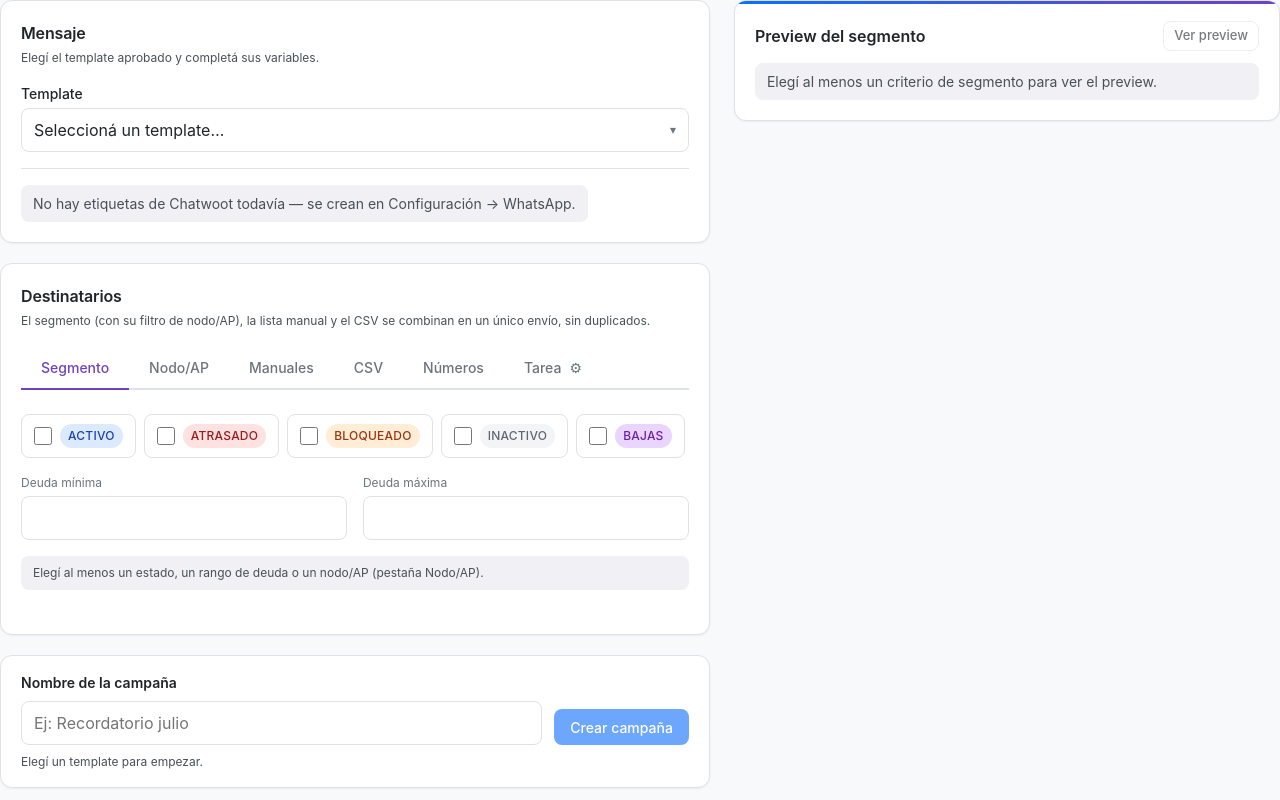
Test: CC-2: elegir un template › muestra sus variables en VariablesMapForm
Click the dropdown labelled "Seleccioná un template… ▾". click: (129, 130)
box: [21,108,689,152]
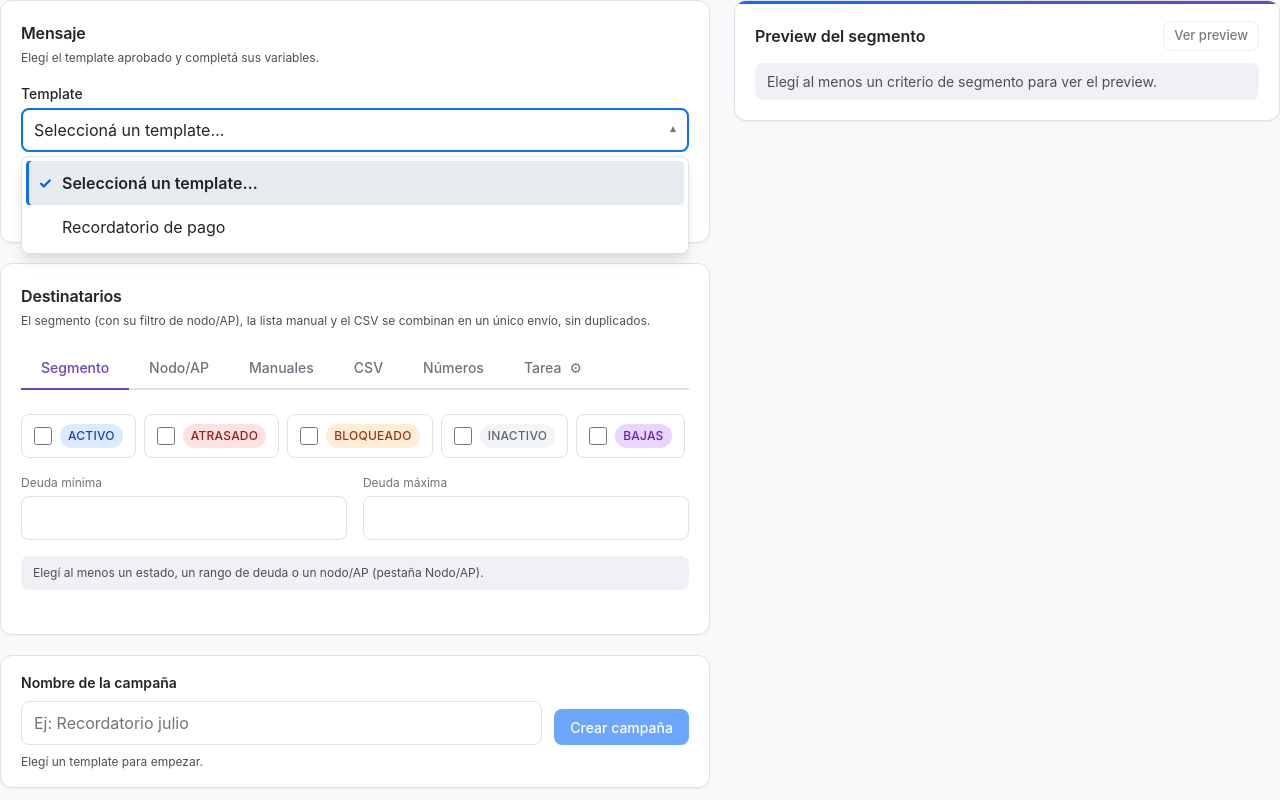
Click the option "Recordatorio de pago". click: (144, 227)
box: [62,217,226,237]
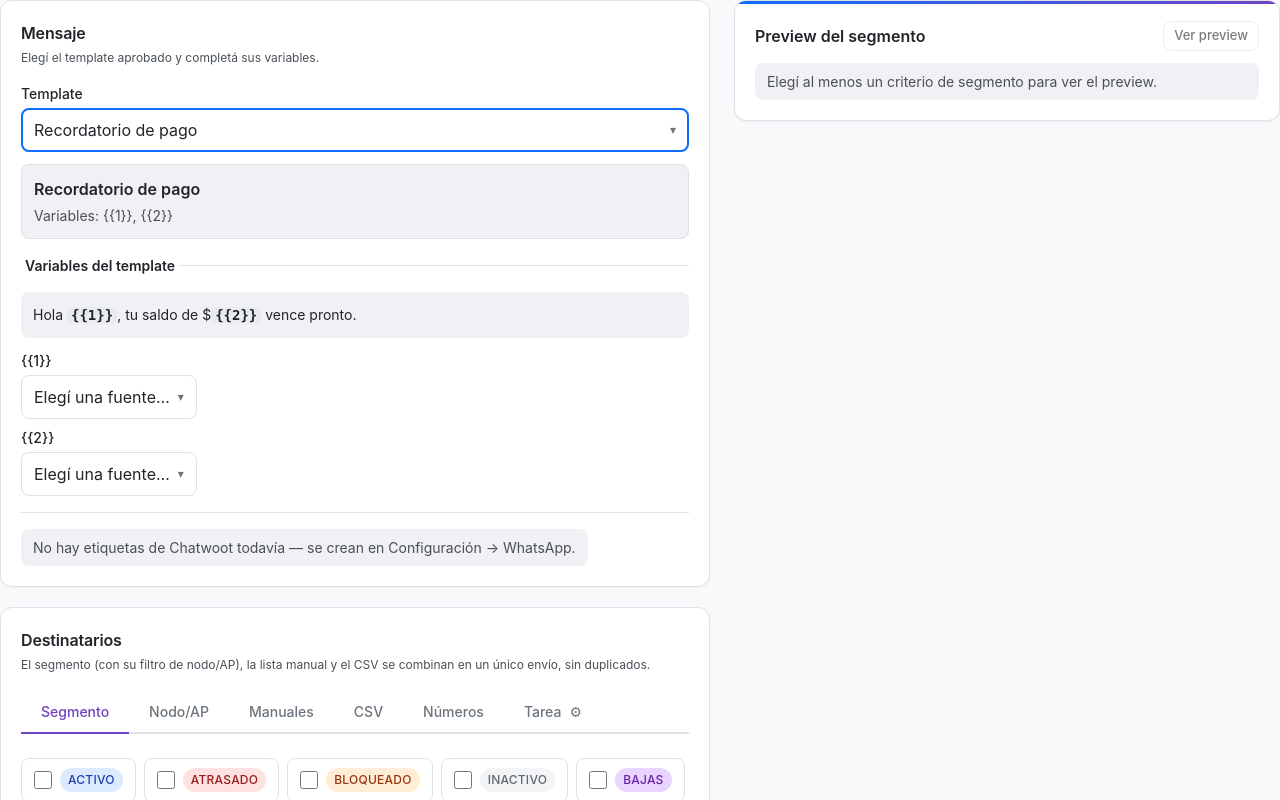
Expected: the dropdown named "{{1}}" is shown, [21,375,197,419]
Expected: the dropdown named "{{2}}" is shown, [21,452,197,496]
